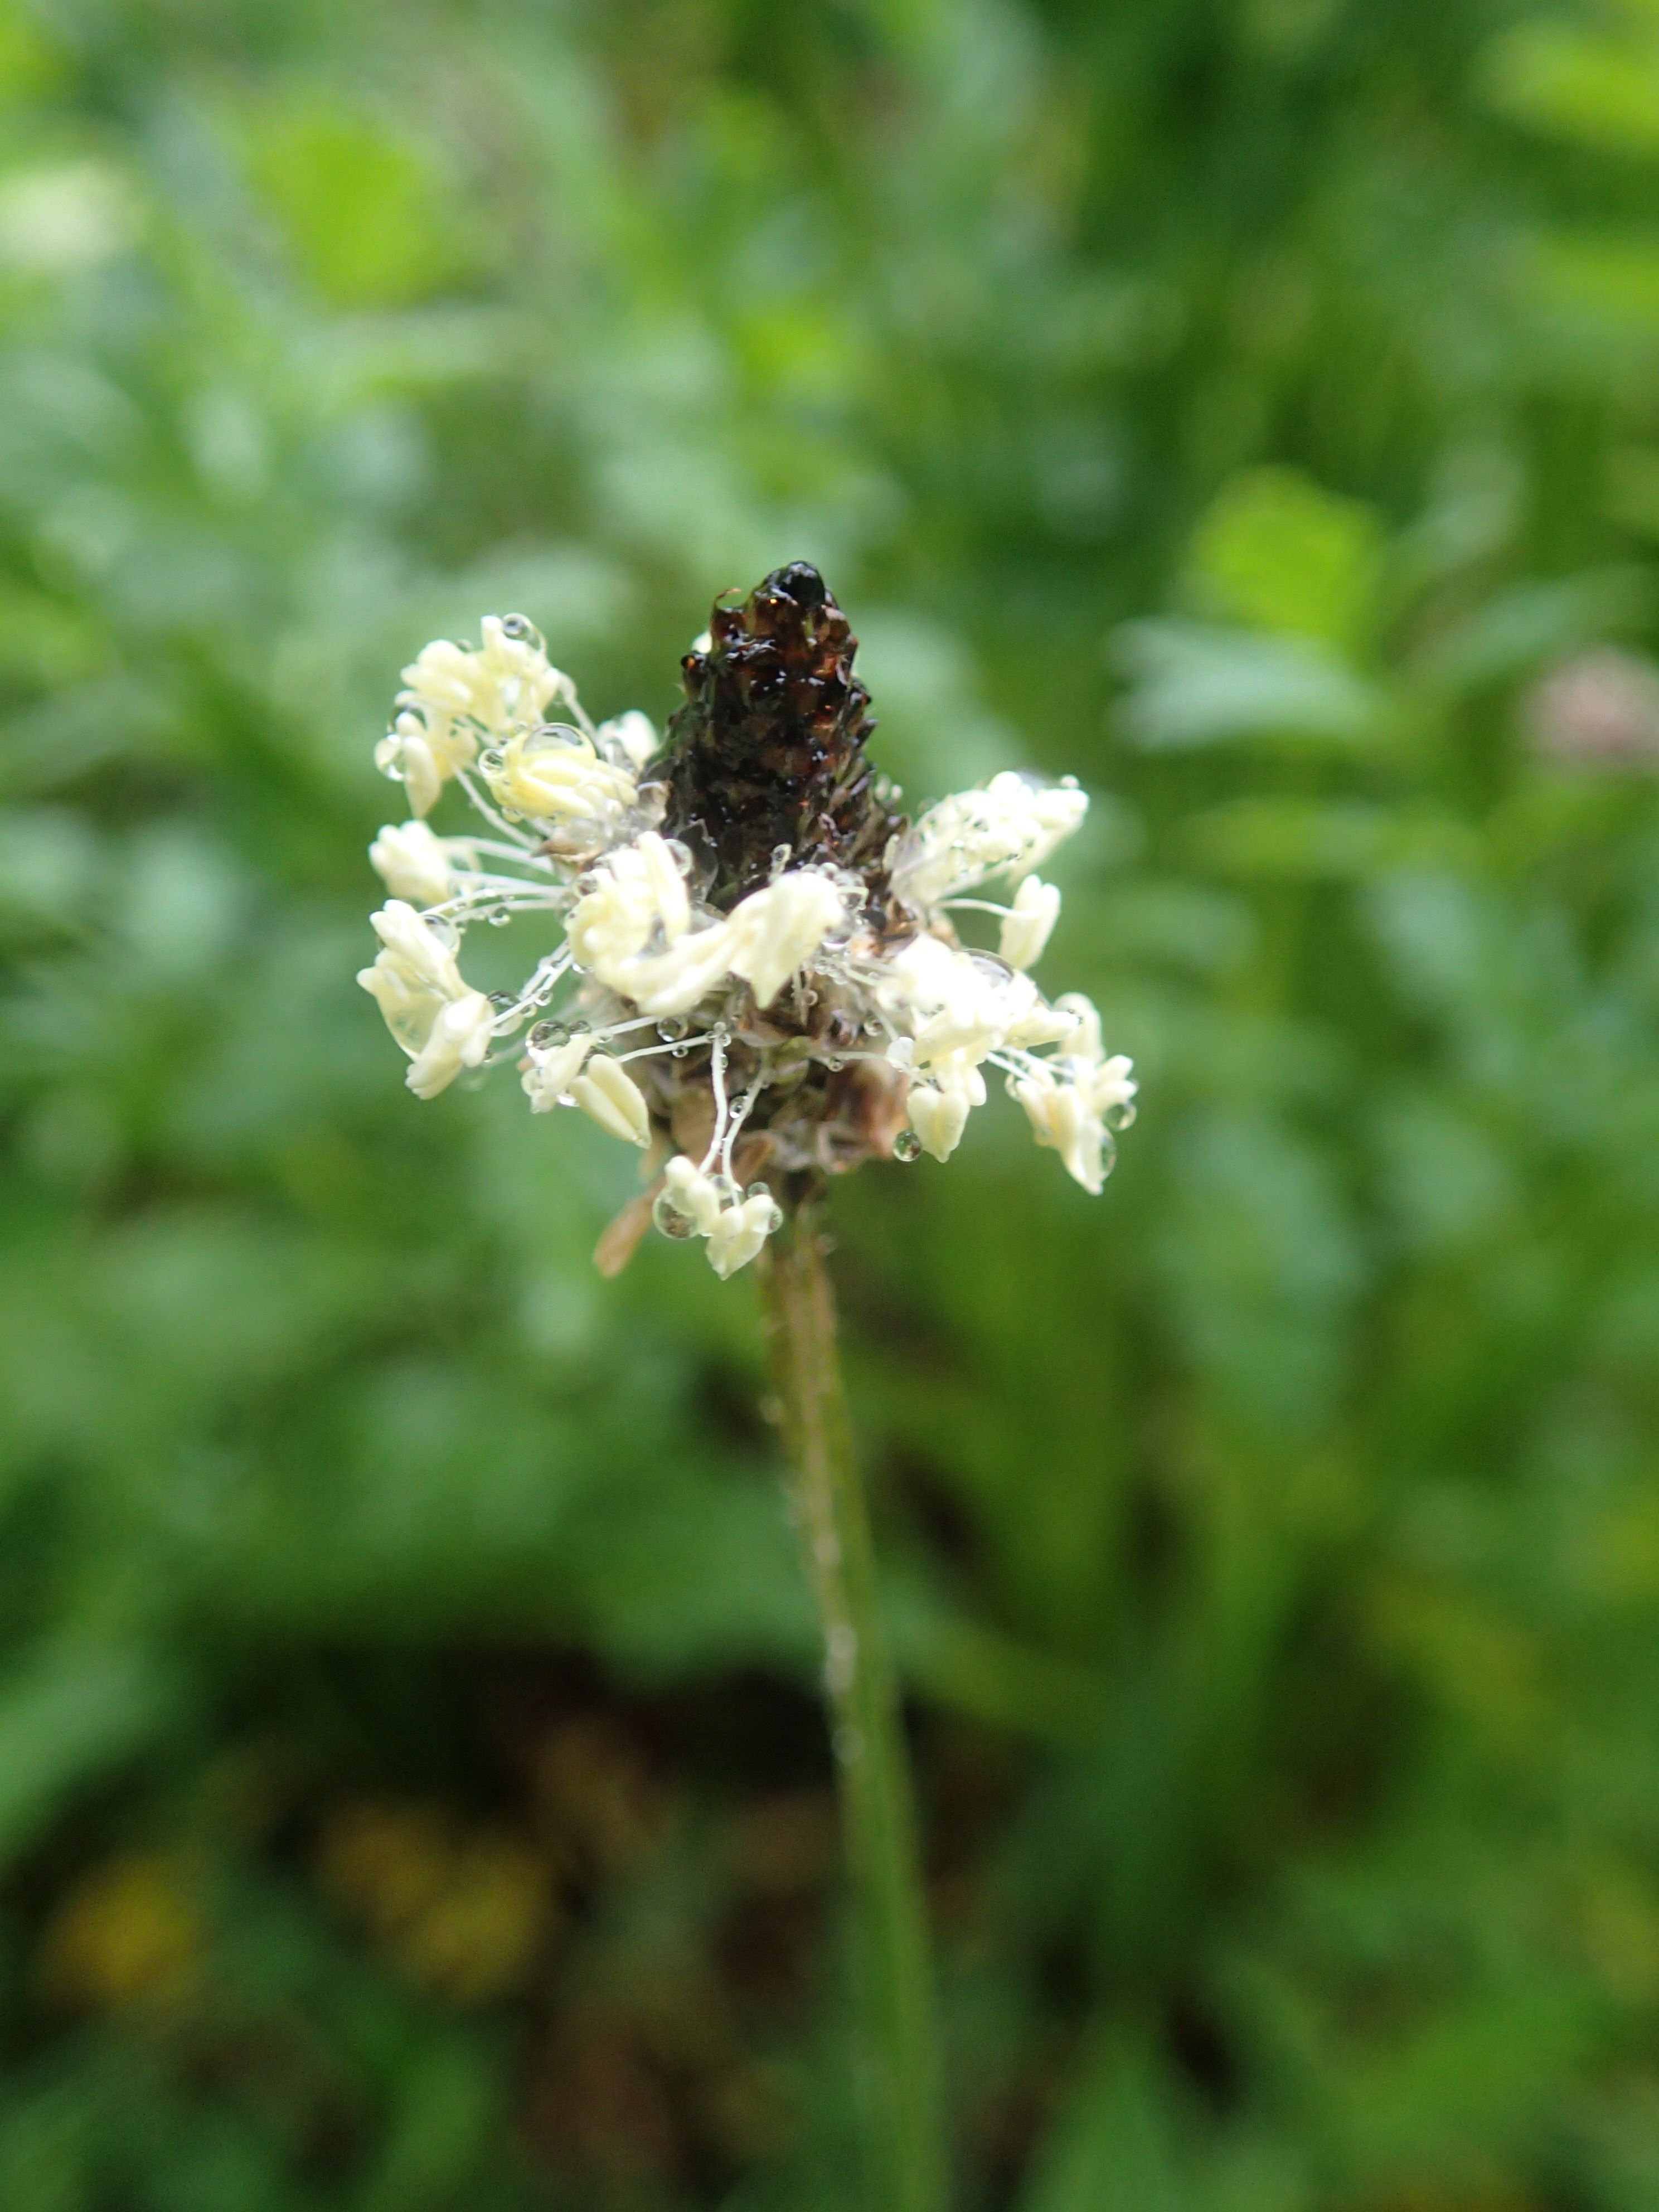buckhorn plantain: (340, 517, 1237, 1912)
